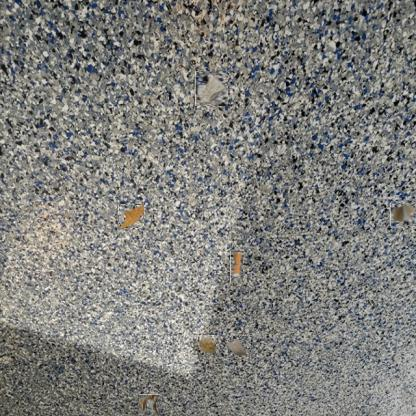dirty: (195, 71, 229, 106), (390, 201, 416, 227), (226, 334, 250, 358), (138, 394, 160, 415), (230, 251, 243, 283)
liquid: (118, 204, 144, 228), (193, 334, 215, 356)
